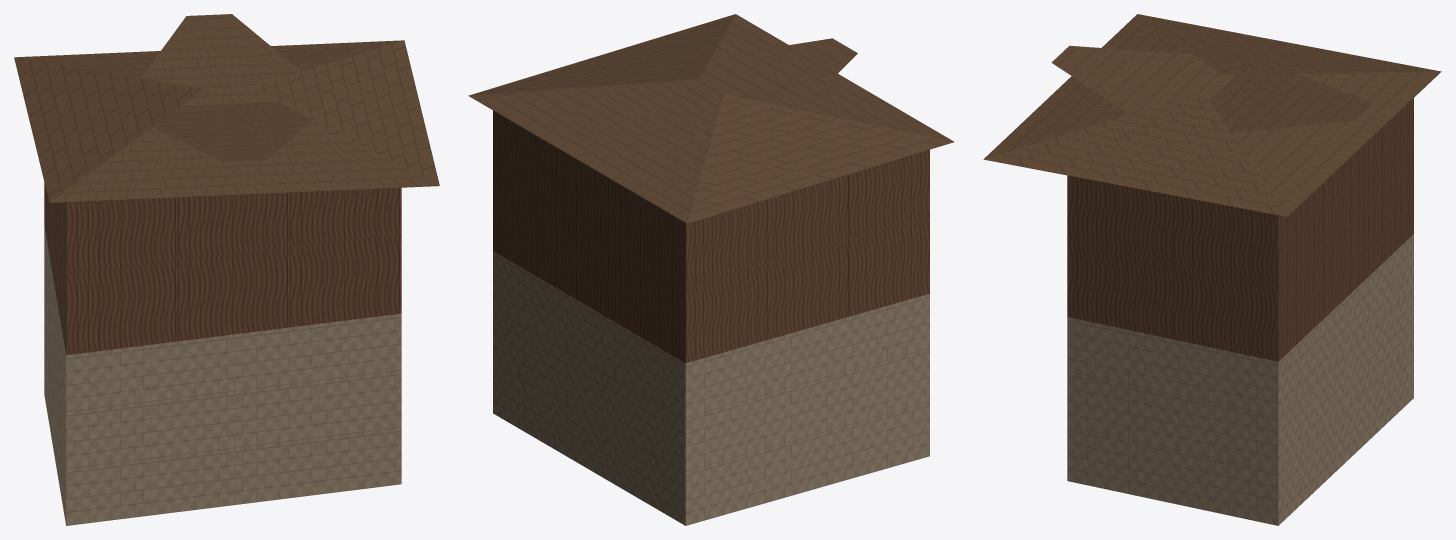
File: bld_c38_35_296.gltf
3 renders of one model, left to right at view 1: azimuth 30°, elevation 25°; view 2: azimuth 150°, elevation 25°; view 3: azimuth 270°, elevation 25°, orthographic. The views are drawn at different scales.
Visible parts, largest first — view 1: bld_c38_35_296; view 2: bld_c38_35_296; view 3: bld_c38_35_296.
Part boxes in pixels (<box>): bld_c38_35_296: <box>14,14,439,525</box>; bld_c38_35_296: <box>468,14,954,525</box>; bld_c38_35_296: <box>983,14,1441,525</box>.
Size of the model in its own units: 13.39 by 10.8 by 12.77.
Materials: 3 (3 with a texture image).
